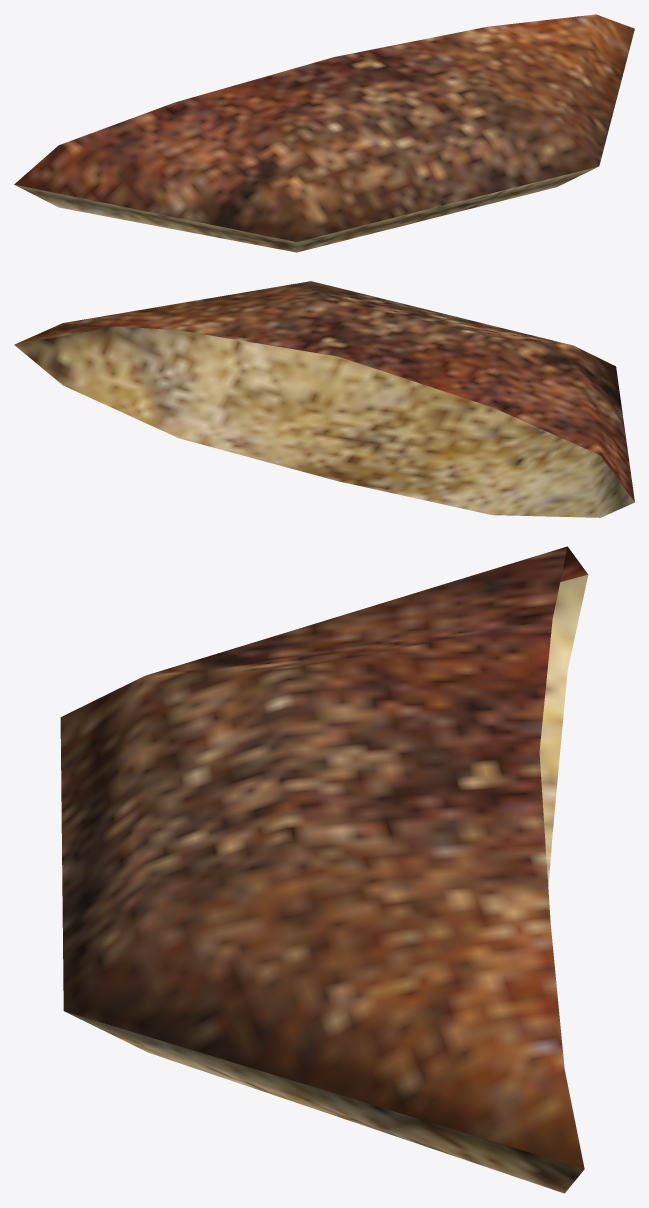
Rendered from MS_Mushroom_6.fbx.
3 views of the same model, one above another, from view 1: azimuth 30°, elevation 25°; view 2: azimuth 150°, elevation 25°; view 3: azimuth 270°, elevation 25° (orthographic). The views are drawn at different scales.
Visible parts, largest first — view 1: Sphere; view 2: Sphere; view 3: Sphere.
Part boxes in pixels (<box>): Sphere: <box>14,14,634,252</box>; Sphere: <box>14,281,634,517</box>; Sphere: <box>60,546,588,1193</box>.
Size of the model in its own units: 58.98 by 11.3 by 21.74.
